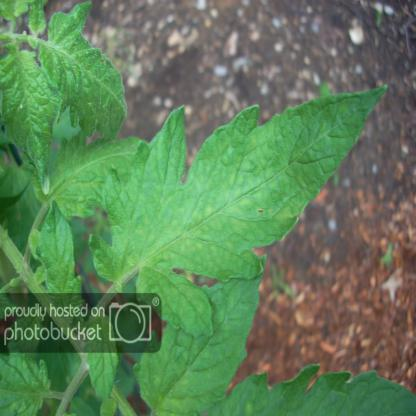Tomato mold leaf: (95, 80, 391, 331)
